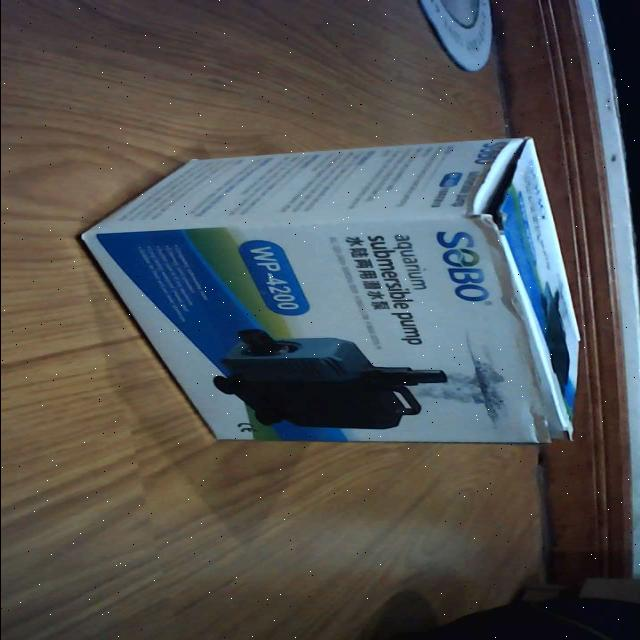SOBO_WP_4200: (73, 130, 594, 456)
